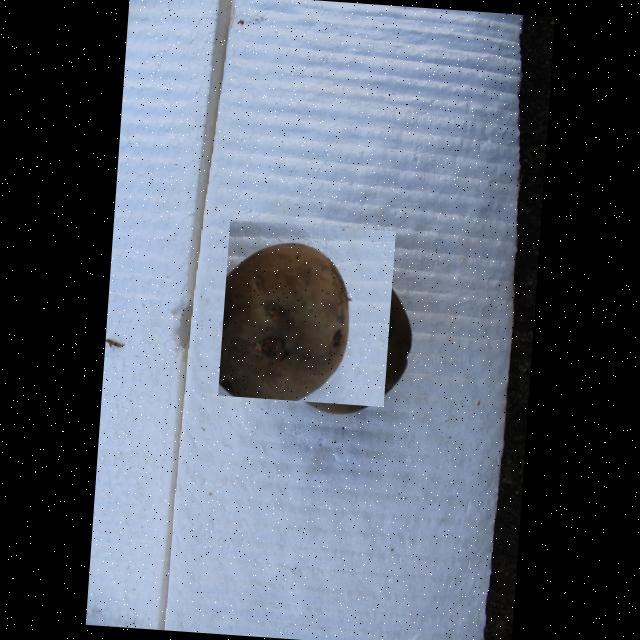Diseased-fungal potato: (218, 218, 396, 406)
